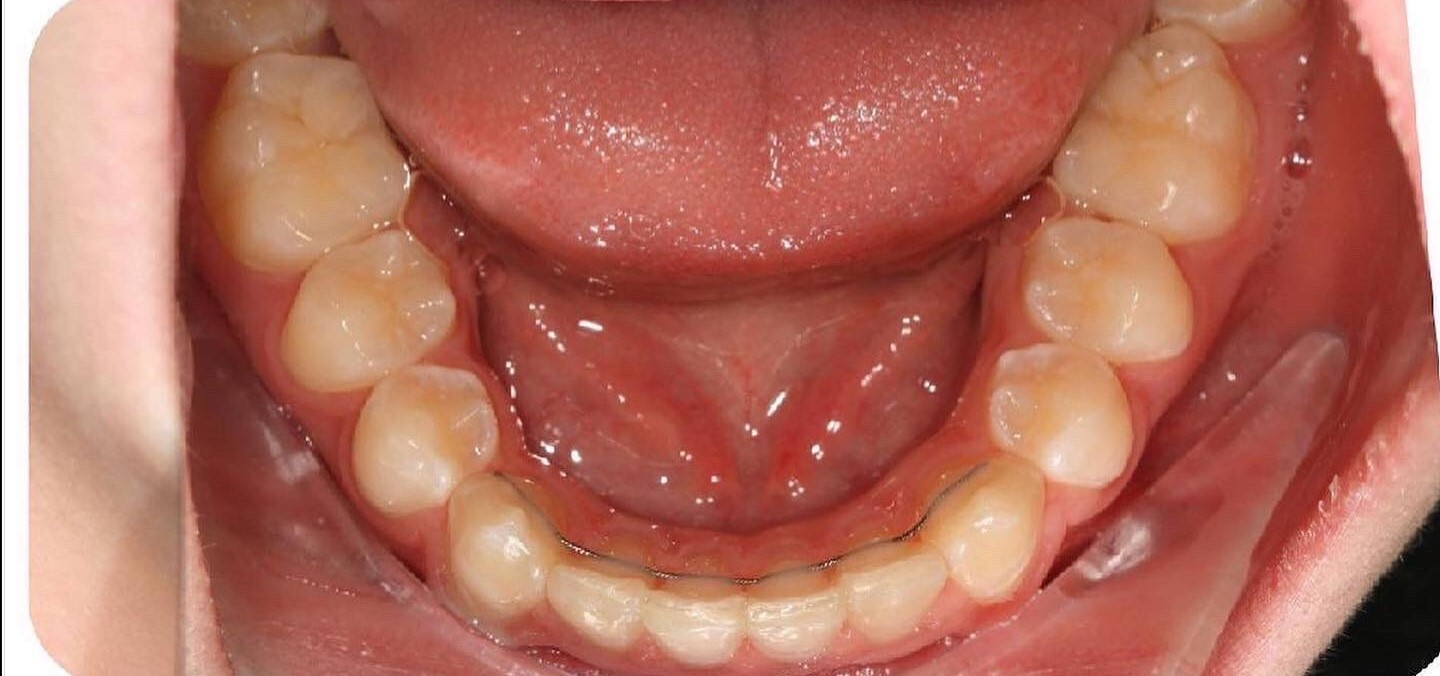LL1BC_healthy: (990, 342, 1135, 493)
LL1M_healthy: (1048, 25, 1260, 244)
LL2BC_healthy: (1015, 222, 1195, 366)
LLCI_decay: (745, 564, 845, 663)
LLC_decay: (922, 456, 1044, 606)
LLLI_decay: (838, 540, 948, 645)
LR1BC_healthy: (353, 370, 497, 518)
LR1M_healthy: (197, 51, 413, 272)
LR2BC_healthy: (274, 234, 459, 394)
LRCI_decay: (643, 558, 746, 666)
LRC_decay: (448, 476, 562, 616)
LRLI_decay: (547, 537, 653, 646)
